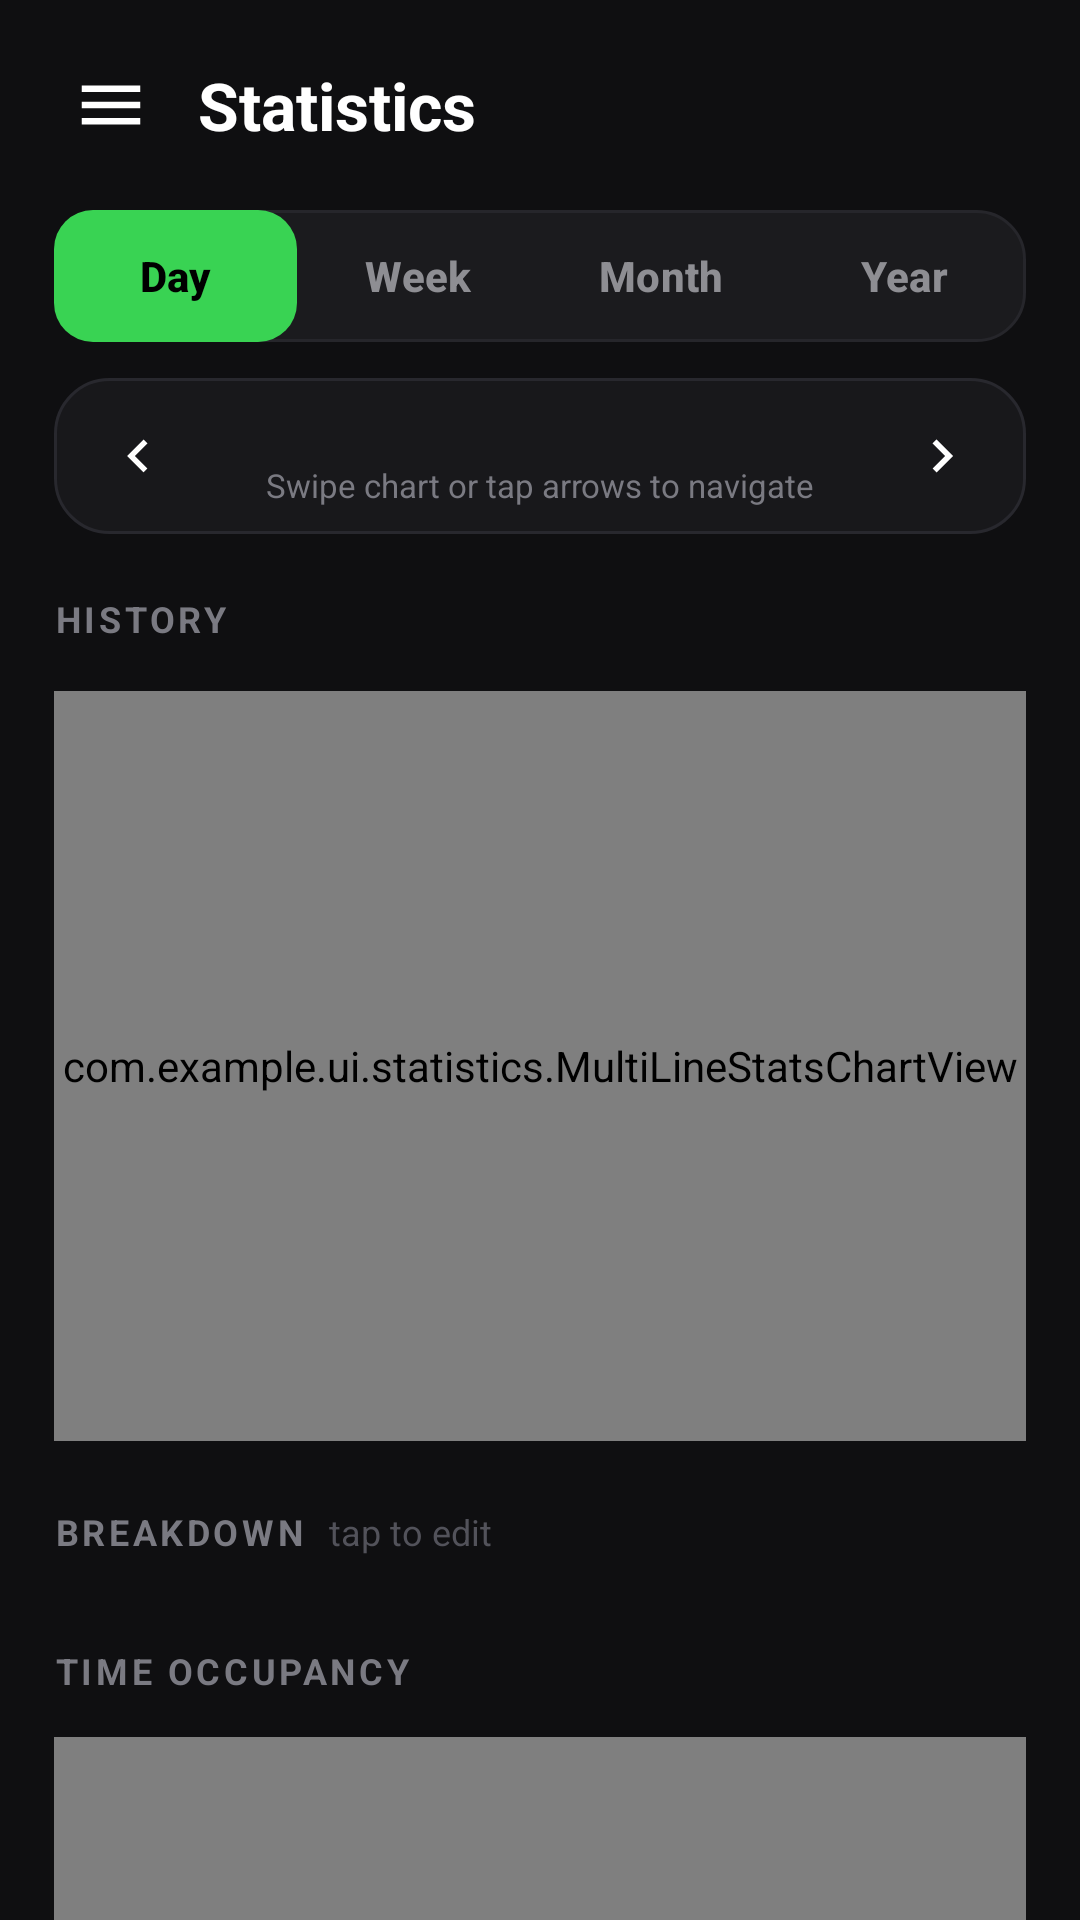

Icons on this 1080x1920 Android screen, each with the point to tap as (x,y):
menu: (111,105)
Next Period: (942,456)
Previous Period: (137,456)
